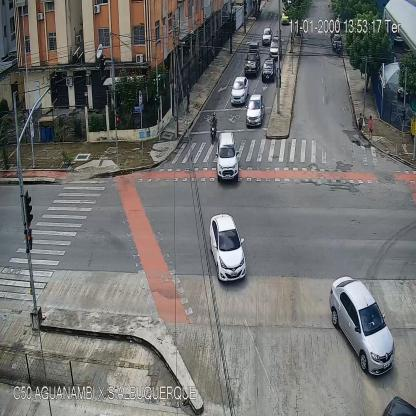car: (330, 274, 396, 377), (210, 214, 245, 280), (215, 130, 240, 180), (246, 93, 264, 127), (230, 76, 247, 104), (244, 50, 260, 78), (262, 58, 276, 80), (270, 39, 281, 60), (332, 35, 342, 52), (262, 28, 271, 44), (281, 11, 290, 26)
motorbike: (210, 112, 217, 145), (336, 42, 339, 54)
person: (185, 85, 191, 113), (358, 112, 364, 140), (368, 114, 374, 141), (252, 0, 257, 13), (255, 0, 259, 14), (212, 46, 215, 63)
